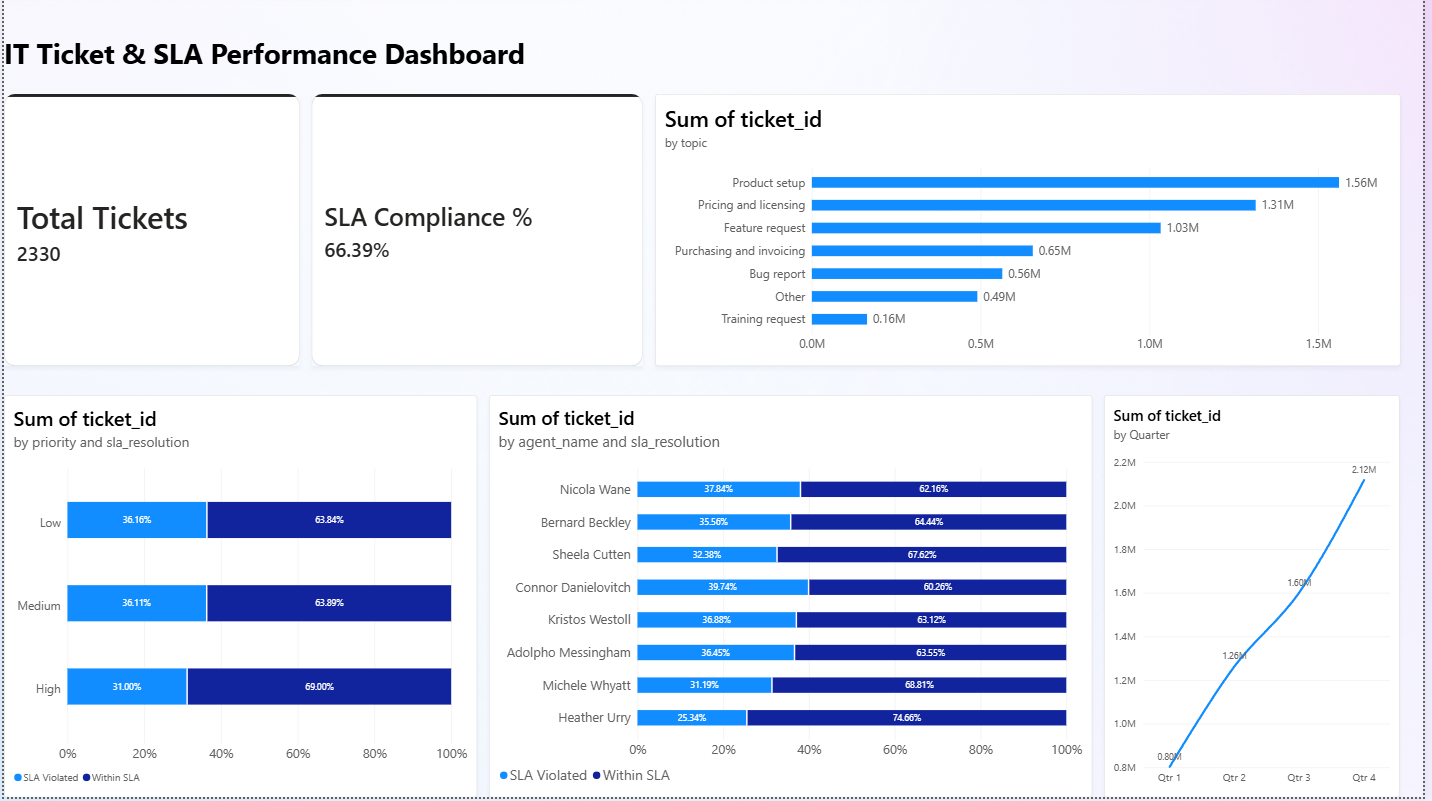

What the dashboard file says about the page in this screenshot:
{"tool":"powerbi","page":{"name":"Page 1","canvas":[1920,1080],"ordinal":0},"visuals":[{"type":"cardVisual","fields":{"Data":["it_ticket_sla tickets_clean.Total Tickets"]},"box":[0,128,400,368],"z":0},{"type":"cardVisual","fields":{"Data":["it_ticket_sla tickets_clean.SLA Compliance %"]},"box":[416,128,448,368],"z":2000},{"type":"hundredPercentStackedBarChart","fields":{"Category":["it_ticket_sla tickets_clean.priority"],"Series":["it_ticket_sla tickets_clean.sla_resolution"],"Y":["Sum(it_ticket_sla tickets_clean.ticket_id)"]},"box":[0,536,640,544],"z":3000},{"type":"clusteredBarChart","fields":{"Category":["it_ticket_sla tickets_clean.topic"],"Y":["Sum(it_ticket_sla tickets_clean.ticket_id)"]},"box":[880,128,1008,368],"z":4000},{"type":"hundredPercentStackedBarChart","fields":{"Category":["it_ticket_sla tickets_clean.agent_name"],"Series":["it_ticket_sla tickets_clean.sla_resolution"],"Y":["Sum(it_ticket_sla tickets_clean.ticket_id)"]},"box":[656,536,816,544],"z":5000},{"type":"lineChart","fields":{"Category":["it_ticket_sla tickets_clean.created_time.Variation.Date Hierarchy.Year","it_ticket_sla tickets_clean.created_time.Variation.Date Hierarchy.Quarter","it_ticket_sla tickets_clean.created_time.Variation.Date Hierarchy.Month","it_ticket_sla tickets_clean.created_time.Variation.Date Hierarchy.Day"],"Y":["Sum(it_ticket_sla tickets_clean.ticket_id)"]},"box":[1488,536,400,544],"z":6000},{"type":"textbox","box":[0,48,1888,80],"z":7000}]}

Visuals, with their boxes in screenshot pixels (x1, y1, x2, y2), scaled from the page's 1920x1080 canvas onto the 1432x801 screenshot:
cardVisual - it_ticket_sla tickets_clean.Total Tickets: select_region(0, 95, 298, 368)
cardVisual - it_ticket_sla tickets_clean.SLA Compliance %: select_region(310, 95, 644, 368)
hundredPercentStackedBarChart - it_ticket_sla tickets_clean.priority x it_ticket_sla tickets_clean.sla_resolution: select_region(0, 398, 477, 800)
clusteredBarChart - it_ticket_sla tickets_clean.topic x Sum(it_ticket_sla tickets_clean.ticket_id): select_region(656, 95, 1408, 368)
hundredPercentStackedBarChart - it_ticket_sla tickets_clean.agent_name x it_ticket_sla tickets_clean.sla_resolution: select_region(489, 398, 1098, 800)
lineChart - it_ticket_sla tickets_clean.created_time.Variation.Date Hierarchy.Year x it_ticket_sla tickets_clean.created_time.Variation.Date Hierarchy.Quarter: select_region(1110, 398, 1408, 800)
textbox: select_region(0, 36, 1408, 95)
